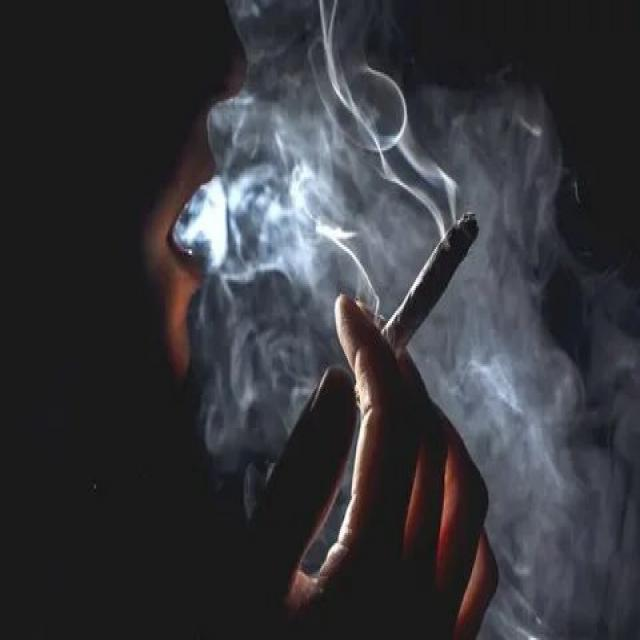cigarette: (375, 206, 481, 360)
